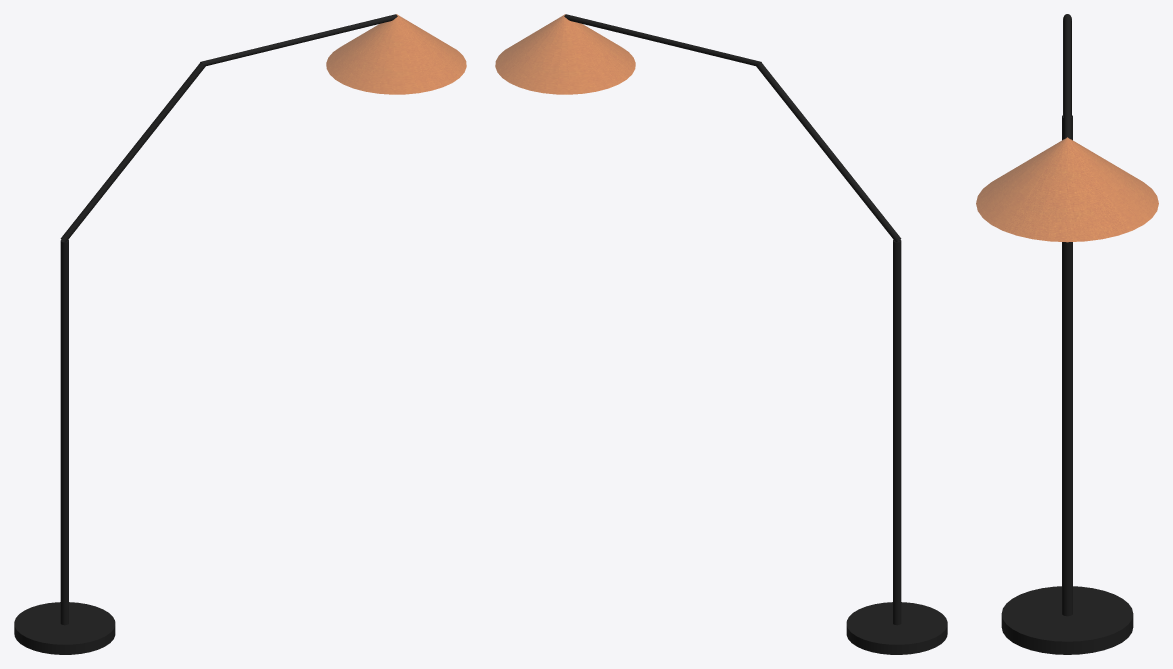
Rendered from state-default.glb.
3 views of the same model, side by side, from view 1: azimuth 30°, elevation 25°; view 2: azimuth 150°, elevation 25°; view 3: azimuth 270°, elevation 25° (orthographic). The views are drawn at different scales.
Visible parts, largest first — view 1: assetPrim:ac7a816a60265-19c73317f64:arc-lamp-shade, assetPrim:ac7a816a60265-19c73317f64:arc-lamp-base, assetPrim:ac7a816a60265-19c73317f64:arc-lamp-stem-v, assetPrim:ac7a816a60265-19c73317f64:arc-lamp-arm-1, assetPrim:ac7a816a60265-19c73317f64:arc-lamp-arm-2; view 2: assetPrim:ac7a816a60265-19c73317f64:arc-lamp-shade, assetPrim:ac7a816a60265-19c73317f64:arc-lamp-base, assetPrim:ac7a816a60265-19c73317f64:arc-lamp-stem-v, assetPrim:ac7a816a60265-19c73317f64:arc-lamp-arm-1, assetPrim:ac7a816a60265-19c73317f64:arc-lamp-arm-2; view 3: assetPrim:ac7a816a60265-19c73317f64:arc-lamp-shade, assetPrim:ac7a816a60265-19c73317f64:arc-lamp-base, assetPrim:ac7a816a60265-19c73317f64:arc-lamp-stem-v, assetPrim:ac7a816a60265-19c73317f64:arc-lamp-arm-2.
Boxes of the visible parts, x1,y1,x2,y2 form: assetPrim:ac7a816a60265-19c73317f64:arc-lamp-shade: (326, 14, 466, 94); assetPrim:ac7a816a60265-19c73317f64:arc-lamp-base: (14, 602, 115, 654); assetPrim:ac7a816a60265-19c73317f64:arc-lamp-stem-v: (60, 239, 68, 625); assetPrim:ac7a816a60265-19c73317f64:arc-lamp-arm-1: (60, 62, 205, 241); assetPrim:ac7a816a60265-19c73317f64:arc-lamp-arm-2: (200, 14, 397, 66); assetPrim:ac7a816a60265-19c73317f64:arc-lamp-shade: (495, 14, 635, 94); assetPrim:ac7a816a60265-19c73317f64:arc-lamp-base: (846, 602, 947, 654); assetPrim:ac7a816a60265-19c73317f64:arc-lamp-stem-v: (893, 239, 901, 625); assetPrim:ac7a816a60265-19c73317f64:arc-lamp-arm-1: (756, 62, 901, 241); assetPrim:ac7a816a60265-19c73317f64:arc-lamp-arm-2: (564, 14, 761, 66); assetPrim:ac7a816a60265-19c73317f64:arc-lamp-shade: (976, 137, 1158, 242); assetPrim:ac7a816a60265-19c73317f64:arc-lamp-base: (1001, 586, 1133, 654); assetPrim:ac7a816a60265-19c73317f64:arc-lamp-stem-v: (1062, 115, 1072, 616); assetPrim:ac7a816a60265-19c73317f64:arc-lamp-arm-2: (1064, 14, 1070, 139).
Size of the model in its own units: 1.79 by 2.11 by 0.5.
Materials: 6 (1 with a texture image).
